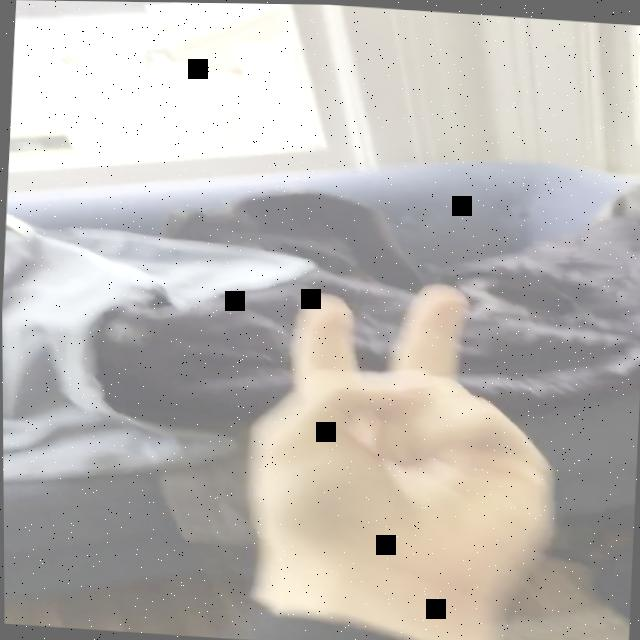Scissors: (237, 271, 580, 587)
